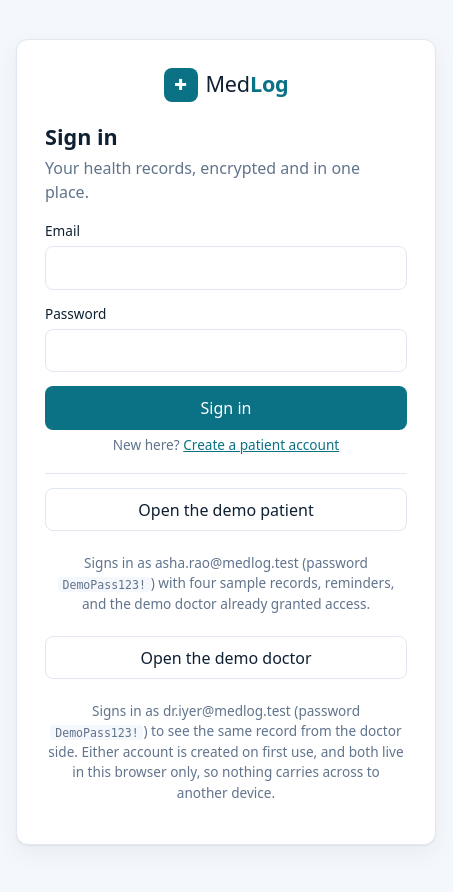
Test: LoginPage › falls back to a generic message for an unexpected failure
Type "asha.rao@medlog.test" into the field labelled "Email".
click(226, 268); type("asha.rao@medlog.test")  # box top-left (45, 246), bottom-right (407, 290)
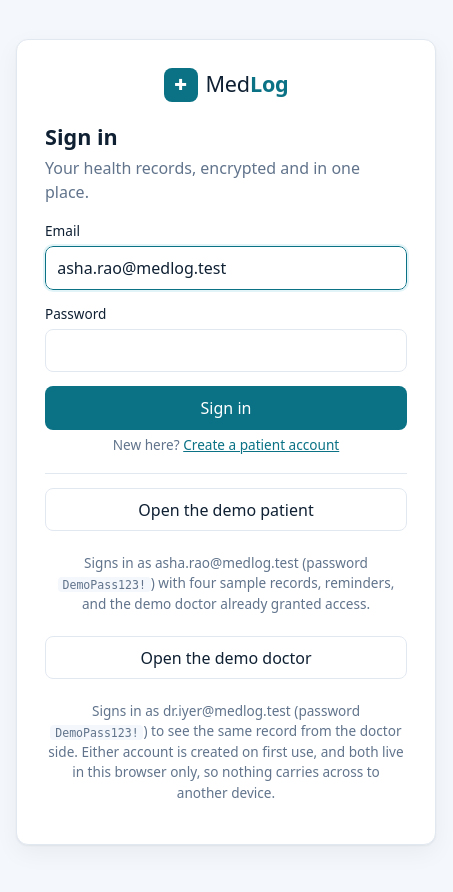
Type "DemoPass123!" into the password field labelled "Password".
click(226, 351); type("DemoPass123!")  # box top-left (45, 329), bottom-right (407, 372)
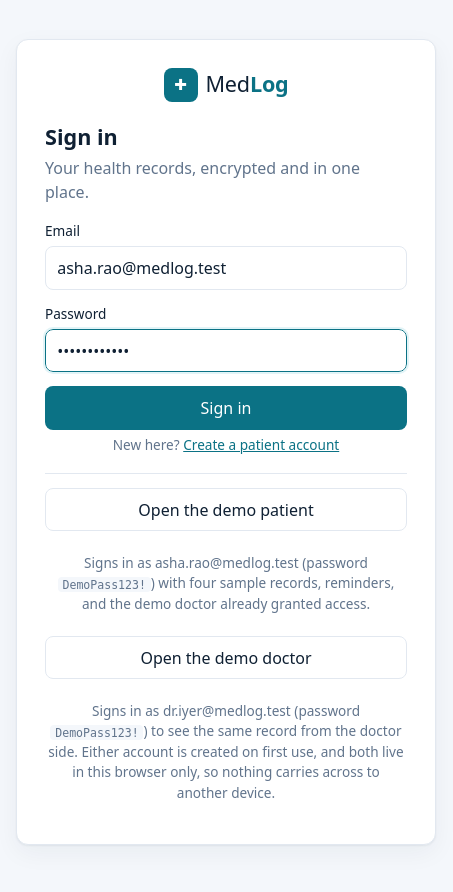
Click the button "Sign in".
click(226, 408)  # box top-left (45, 386), bottom-right (407, 430)
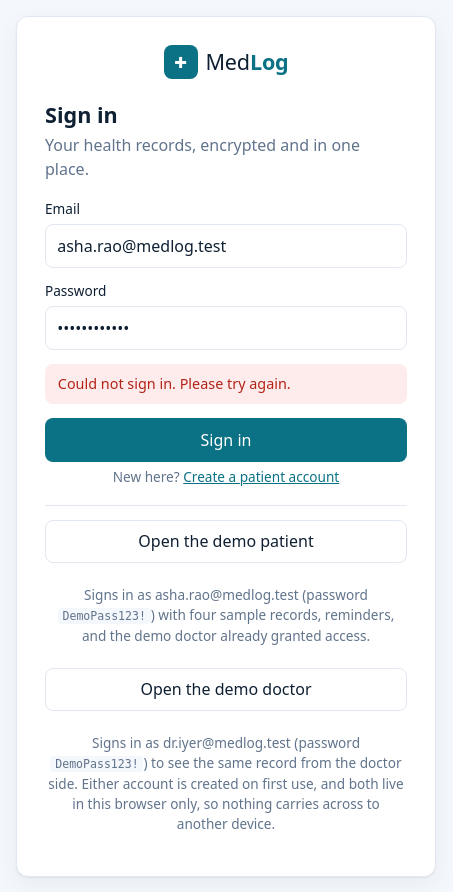
Result: the message shows "Could not sign in" at top-left (58, 374), bottom-right (291, 393)
